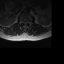CCS_normal: (24, 20, 26, 25)
LFS_normal: (27, 20, 29, 24)
LLS_normal: (26, 20, 27, 25)
RFS_normal: (21, 20, 23, 24)
RLS_normal: (23, 20, 24, 24)
